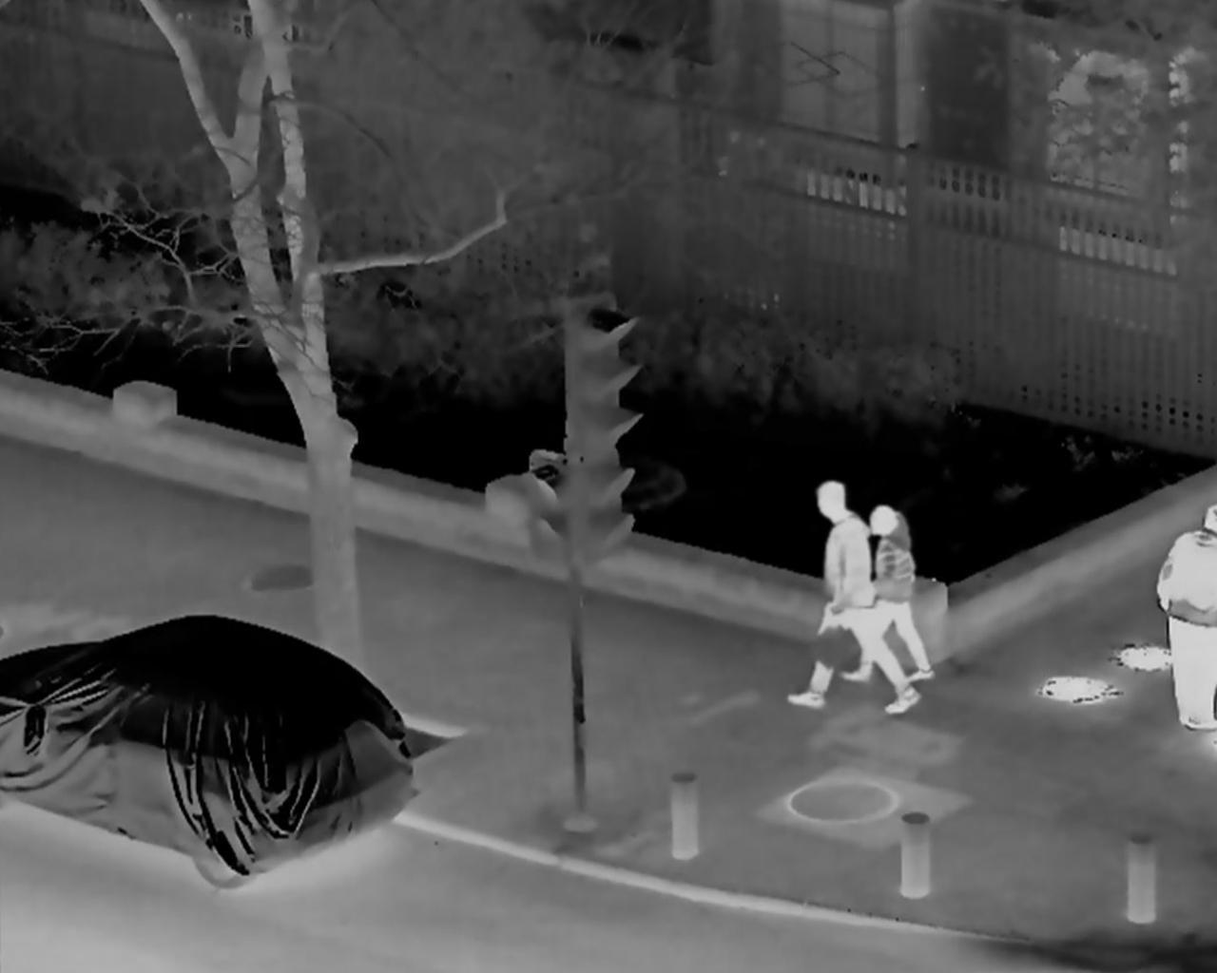person: (793, 481, 913, 721), (842, 506, 933, 686), (1149, 504, 1217, 733)
